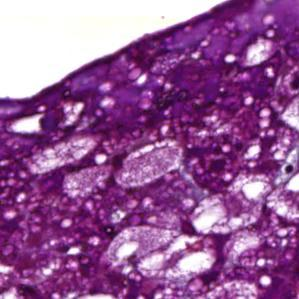ballooning: (189, 184, 265, 236)
